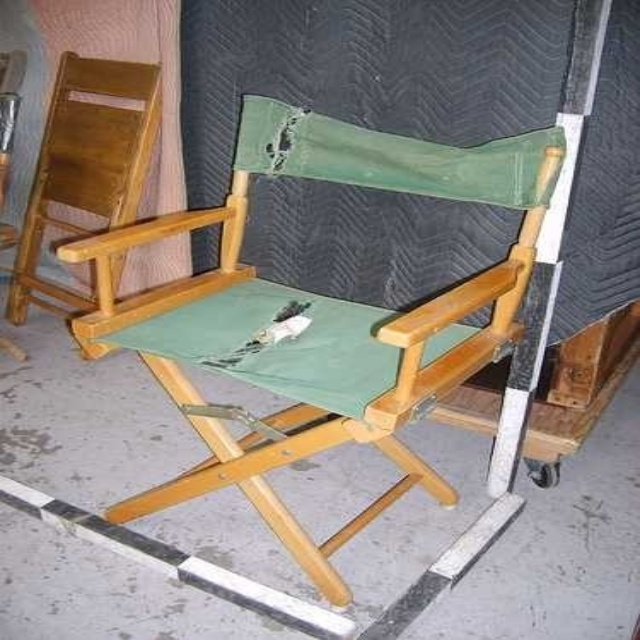obstacle: (58, 96, 563, 607)
